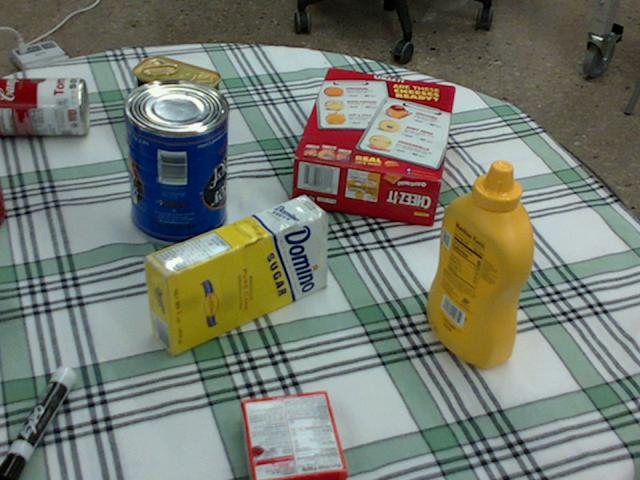cracker_box: (292, 68, 454, 225)
gelatin_box: (239, 391, 344, 479)
large_marker: (0, 366, 75, 479)
master_chef_can: (120, 79, 226, 247)
mug: (0, 179, 5, 222)
mustard_bottle: (427, 159, 533, 366)
potted_meat_can: (132, 57, 220, 149)
sugar_box: (142, 196, 327, 355)
tomato_soup_can: (0, 78, 88, 135)
